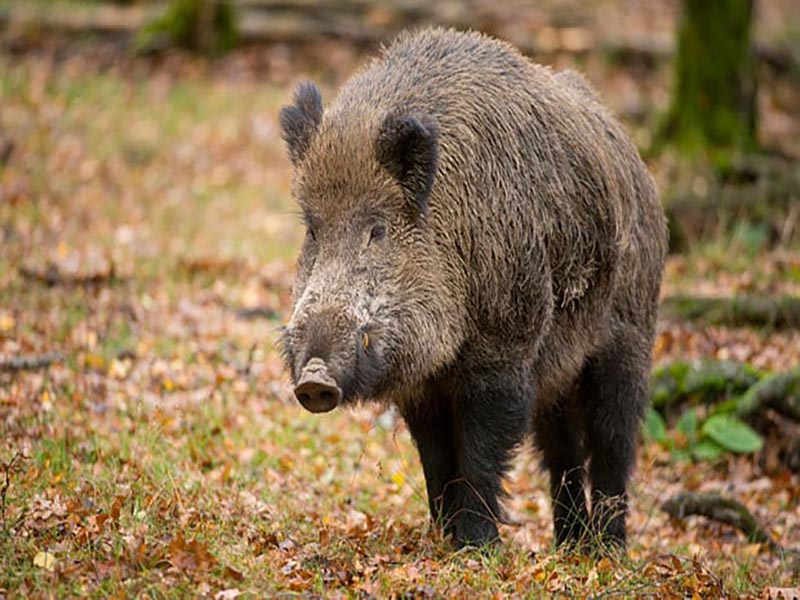cinghiale: (263, 14, 646, 552)
